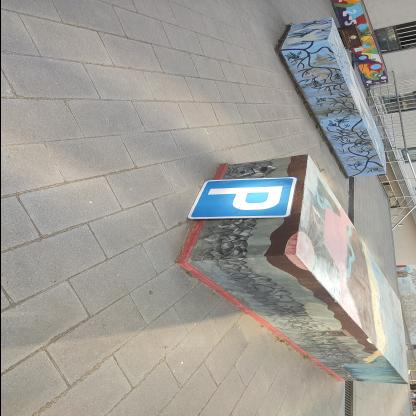Parking-Sign: (185, 177, 299, 220)
